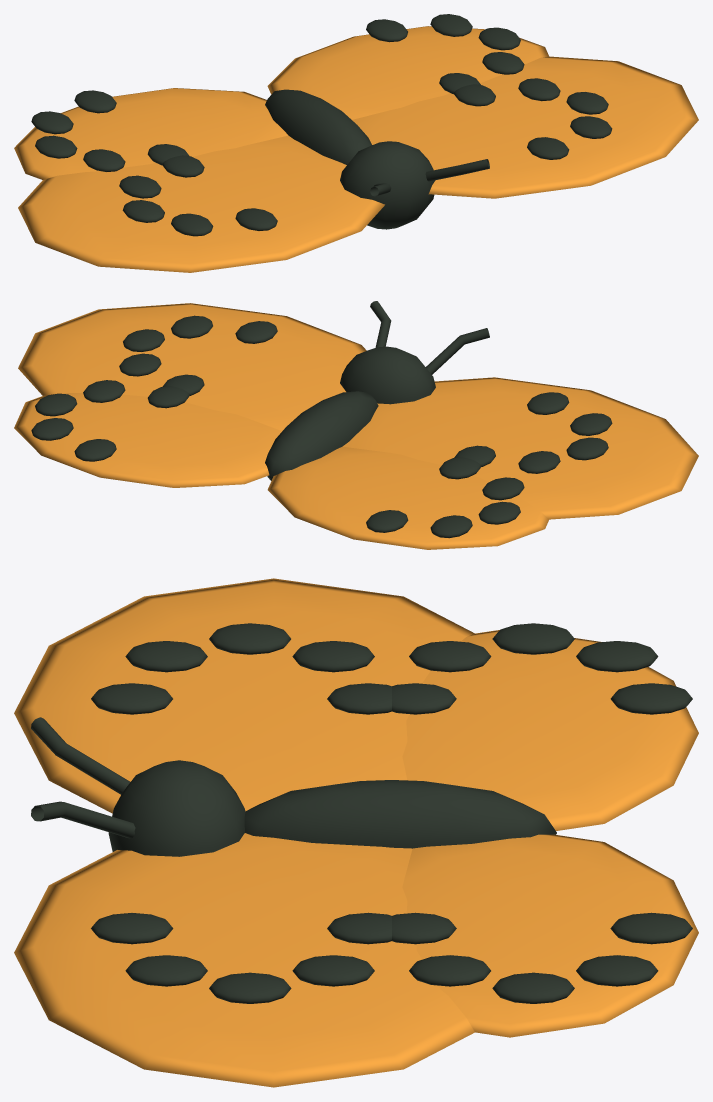
The model's file is butterfly.glb.
3 renders of one model, top to bottom at view 1: azimuth 30°, elevation 25°; view 2: azimuth 150°, elevation 25°; view 3: azimuth 270°, elevation 25°, orthographic. The views are drawn at different scales.
Visible parts, largest first — view 1: Wing lobe, Wing lobe.002, Body; view 2: Wing lobe, Wing lobe.002, Body; view 3: Wing lobe.002, Wing lobe, Body.
Boxes of the visible parts, box(x1,y1,x2,y2) form: Wing lobe: box(14, 88, 384, 272); Wing lobe.002: box(267, 14, 698, 198); Body: box(265, 89, 489, 229); Wing lobe: box(267, 377, 698, 549); Wing lobe.002: box(14, 303, 366, 487); Body: box(265, 301, 489, 480); Wing lobe.002: box(14, 833, 698, 1087); Wing lobe: box(14, 578, 698, 830); Body: box(31, 717, 556, 856).
Size of the model in its own units: 1.02 by 0.1266 by 0.58.
